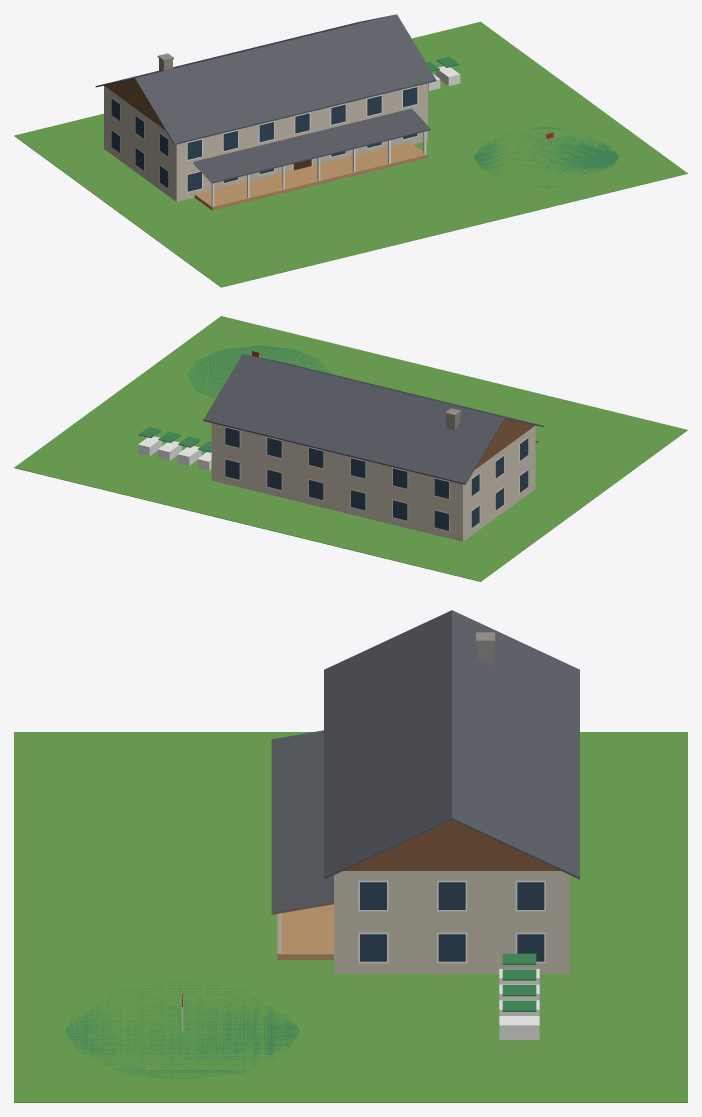
File: club_house_golf.glb
3 renders of one model, top to bottom at view 1: azimuth 30°, elevation 25°; view 2: azimuth 150°, elevation 25°; view 3: azimuth 270°, elevation 25°, orthographic. The views are drawn at different scales.
Visible parts, largest first — view 1: club_house_golf; view 2: club_house_golf; view 3: club_house_golf.
Boxes of the visible parts, x1,y1,x2,y2 form: club_house_golf: (14, 14, 687, 287); club_house_golf: (14, 316, 687, 581); club_house_golf: (14, 610, 687, 1102).
Bounding box in the file's own units: 52 × 10.95 × 40.
Materials: 1 (1 with a texture image).
